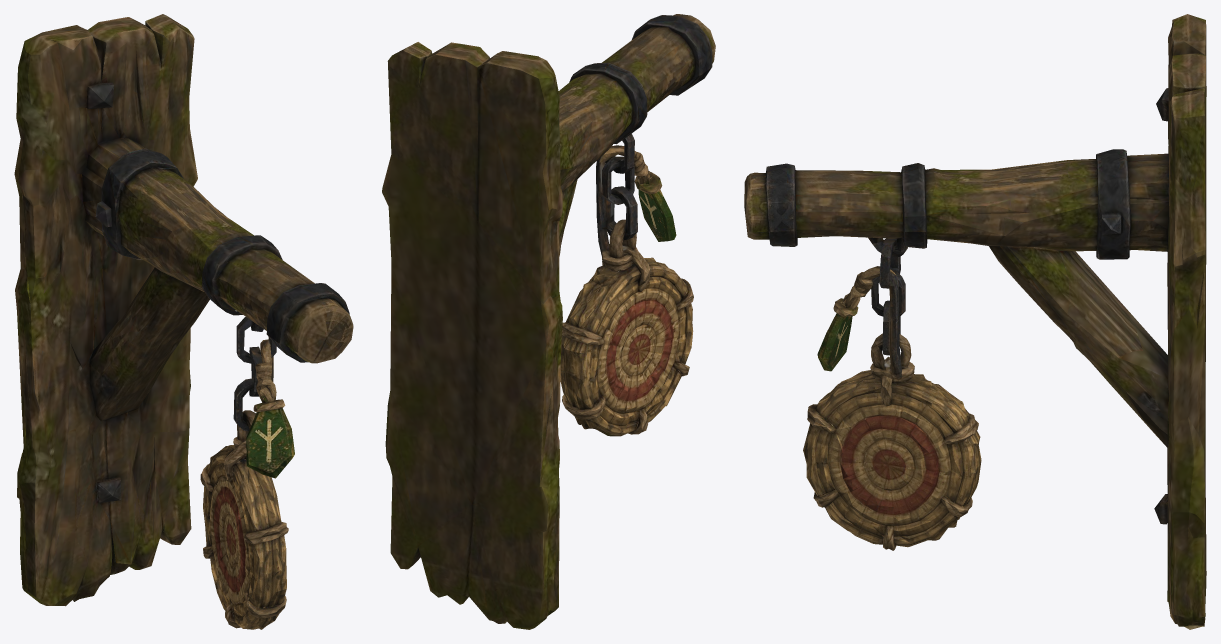
Rendered from PerchWall.fbx.
The picture shows the model from 3 angles, left to right: view 1: azimuth 30°, elevation 25°; view 2: azimuth 150°, elevation 25°; view 3: azimuth 270°, elevation 25°; orthographic projection. The views are drawn at different scales.
Visible parts, largest first — view 1: output_unwrapped; view 2: output_unwrapped; view 3: output_unwrapped.
Part boxes in pixels (<box>): output_unwrapped: <box>14,14,353,629</box>; output_unwrapped: <box>382,14,715,629</box>; output_unwrapped: <box>744,14,1206,629</box>.
Bounding box in the file's own units: 60.26 × 190 × 137.
1 material, 1 textured.
